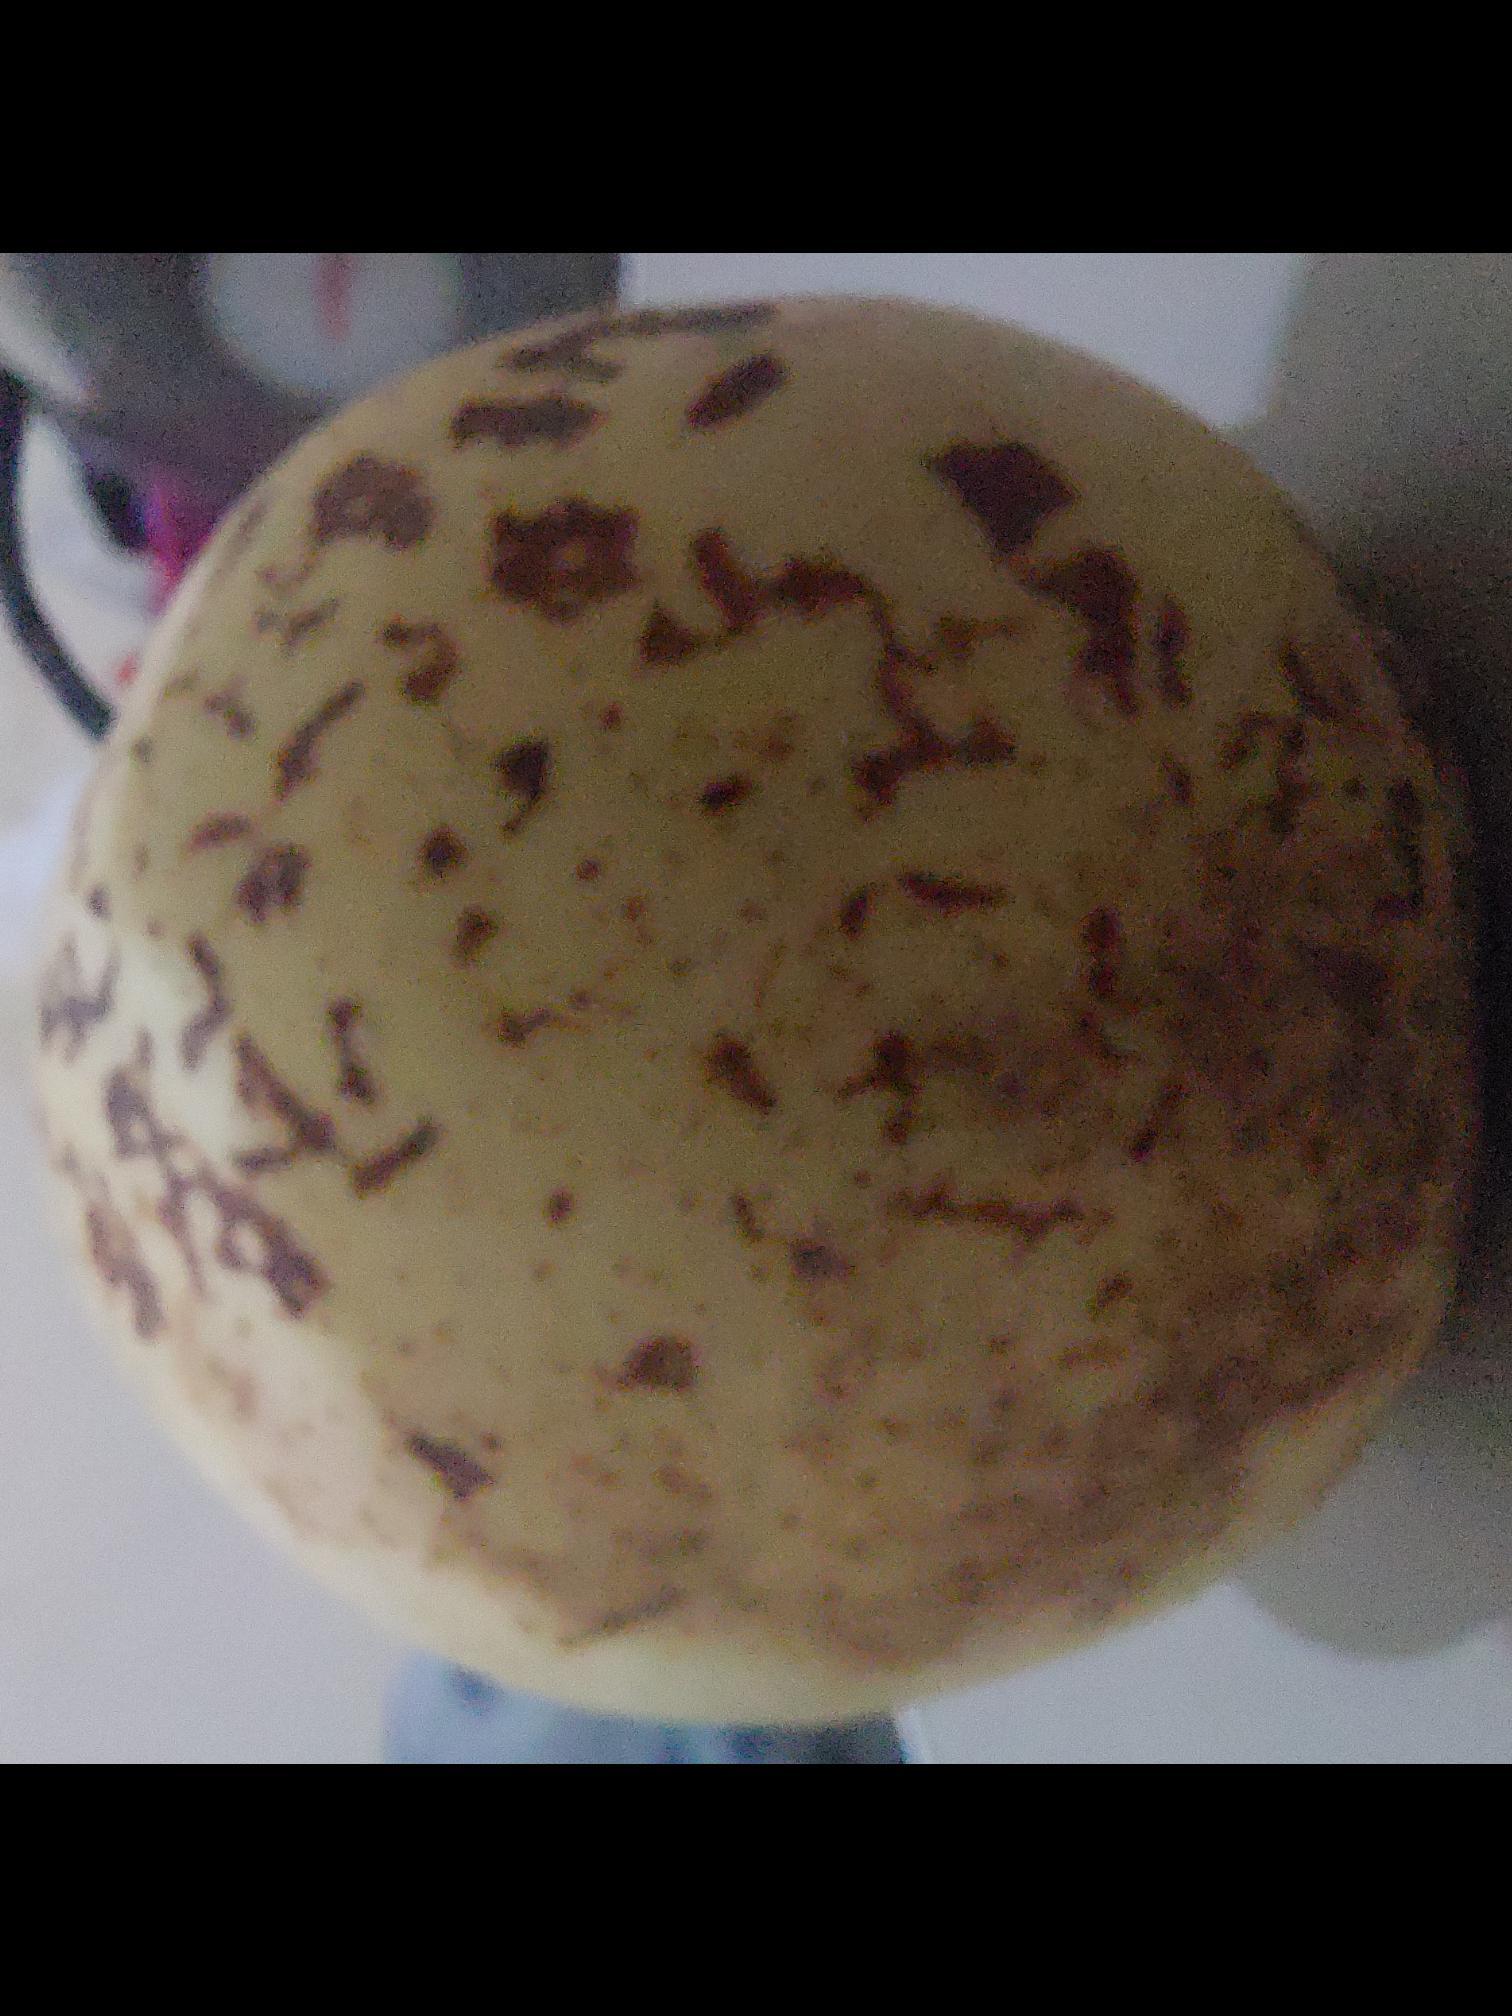Bad Pear: (0, 252, 1512, 1729)
